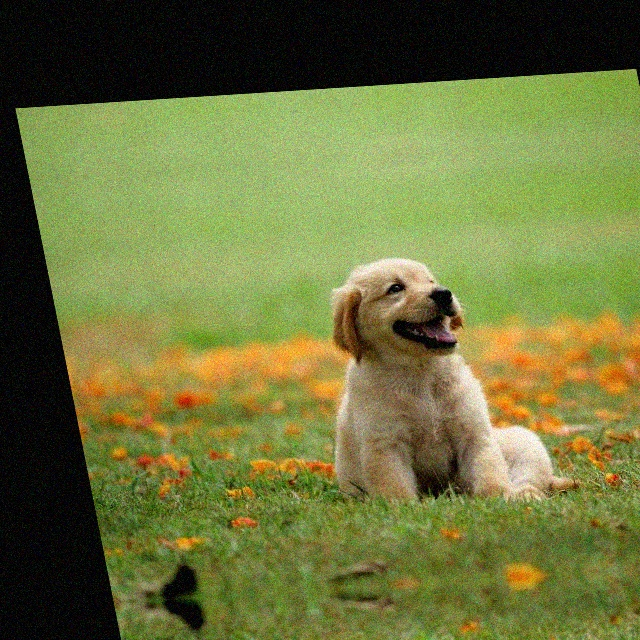dog: (269, 214, 568, 549), (347, 611, 590, 640), (241, 79, 478, 100)
